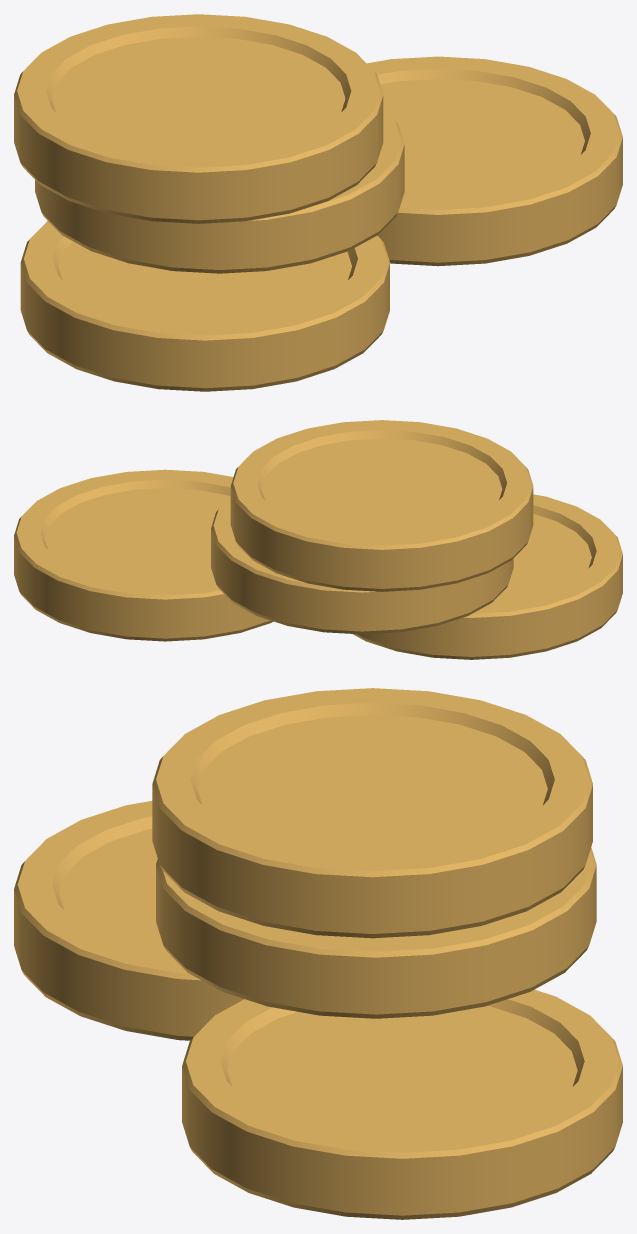
The model's file is coins.fbx.
3 renders of one model, top to bottom at view 1: azimuth 30°, elevation 25°; view 2: azimuth 150°, elevation 25°; view 3: azimuth 270°, elevation 25°, orthographic. The views are drawn at different scales.
Visible parts, largest first — view 1: Coins; view 2: Coins; view 3: Coins.
Part boxes in pixels (x1,y1,x2,y2): Coins: (14, 14, 622, 391); Coins: (14, 420, 622, 659); Coins: (14, 688, 622, 1219).
Bounding box in the file's own units: 6.35 × 4.5 × 1.64.
